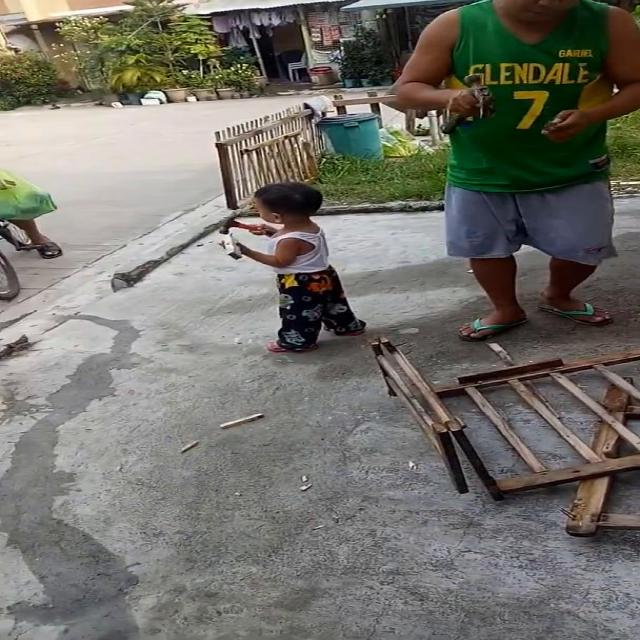hammer: (441, 84, 496, 135), (218, 209, 274, 238)
